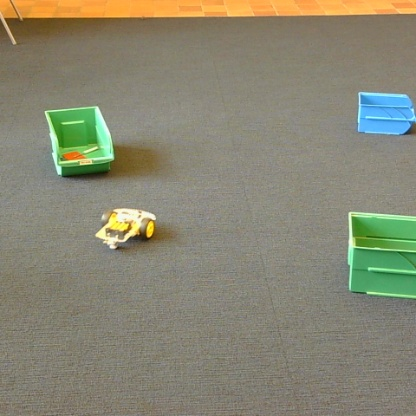robot: (96, 208, 155, 248)
